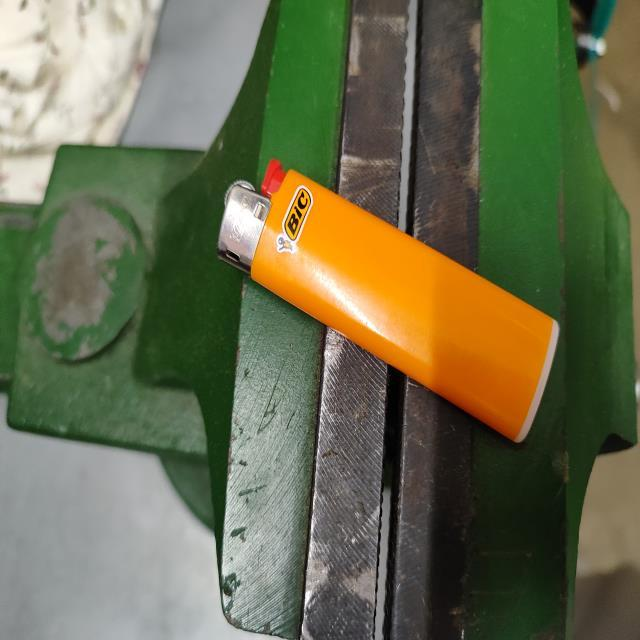lighter: (218, 161, 558, 441)
